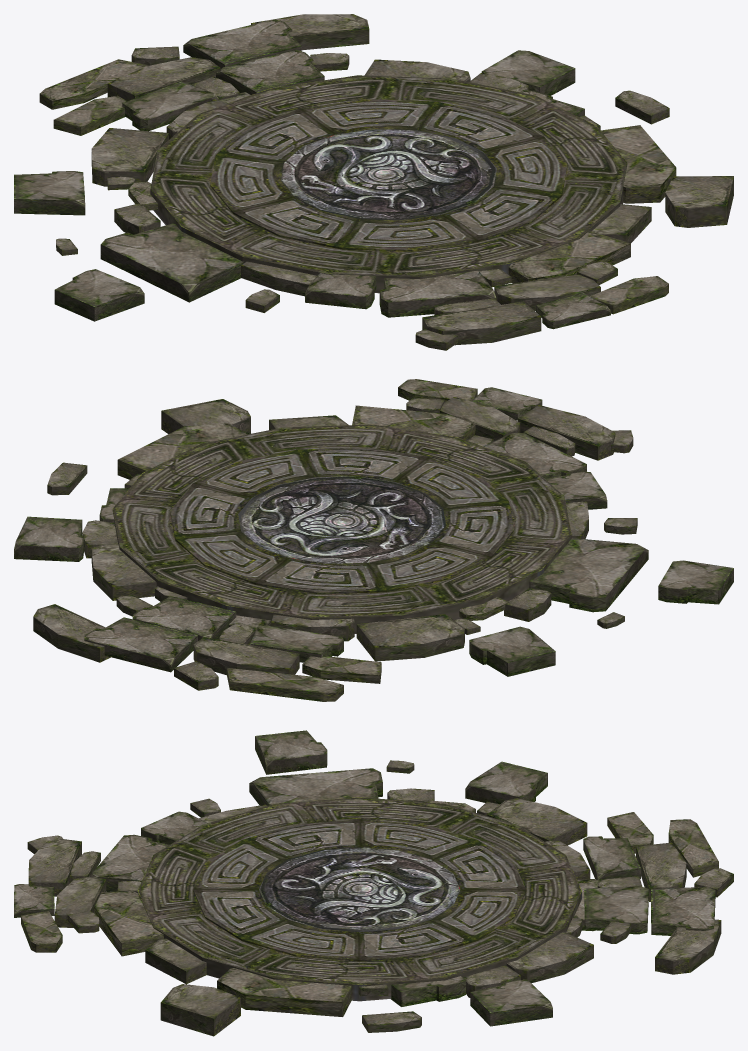
File: QHS_Ground_pt01.FBX
3 renders of one model, top to bottom at view 1: azimuth 30°, elevation 25°; view 2: azimuth 150°, elevation 25°; view 3: azimuth 270°, elevation 25°, orthographic. The views are drawn at different scales.
Parts seen in each view (by area): view 1: QHS_Ground_pt01; view 2: QHS_Ground_pt01; view 3: QHS_Ground_pt01.
Boxes of the visible parts, box(x1,y1,x2,y2) form: QHS_Ground_pt01: box(14, 14, 733, 350); QHS_Ground_pt01: box(14, 379, 733, 701); QHS_Ground_pt01: box(14, 730, 733, 1036).
Bounding box in the file's own units: 3280 × 136 × 3398.
